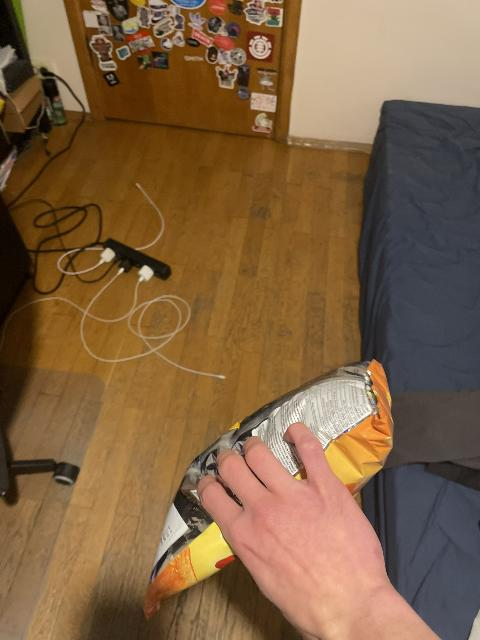Chio Cascaval 125g: (148, 351, 395, 618)
